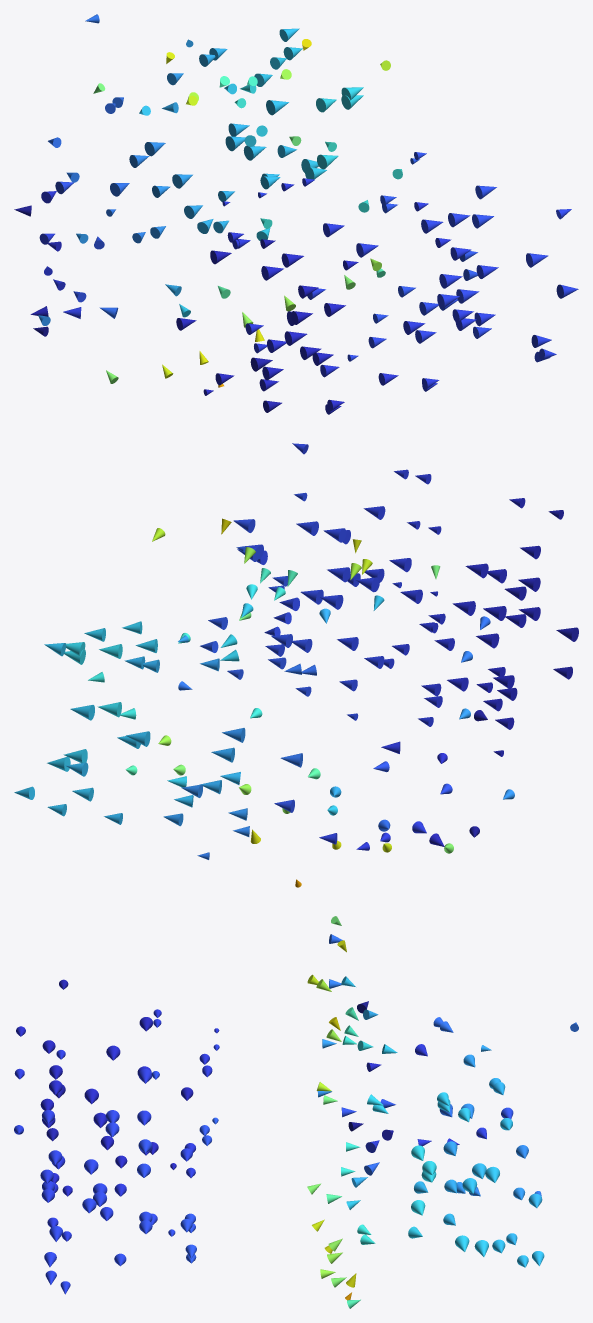
Rendered from LineasCorrienteN2-H2O_mh2-5.58_V-1.glb.
3 renders of one model, top to bottom at view 1: azimuth 30°, elevation 25°; view 2: azimuth 150°, elevation 25°; view 3: azimuth 270°, elevation 25°, orthographic. The views are drawn at different scales.
Bounding box in the file's own units: 0.000986 × 0.000823 × 0.00126.
2 materials, 2 textured.
